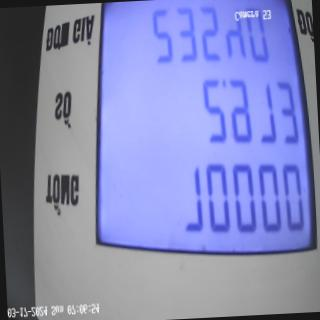screen: (79, 0, 320, 278)
